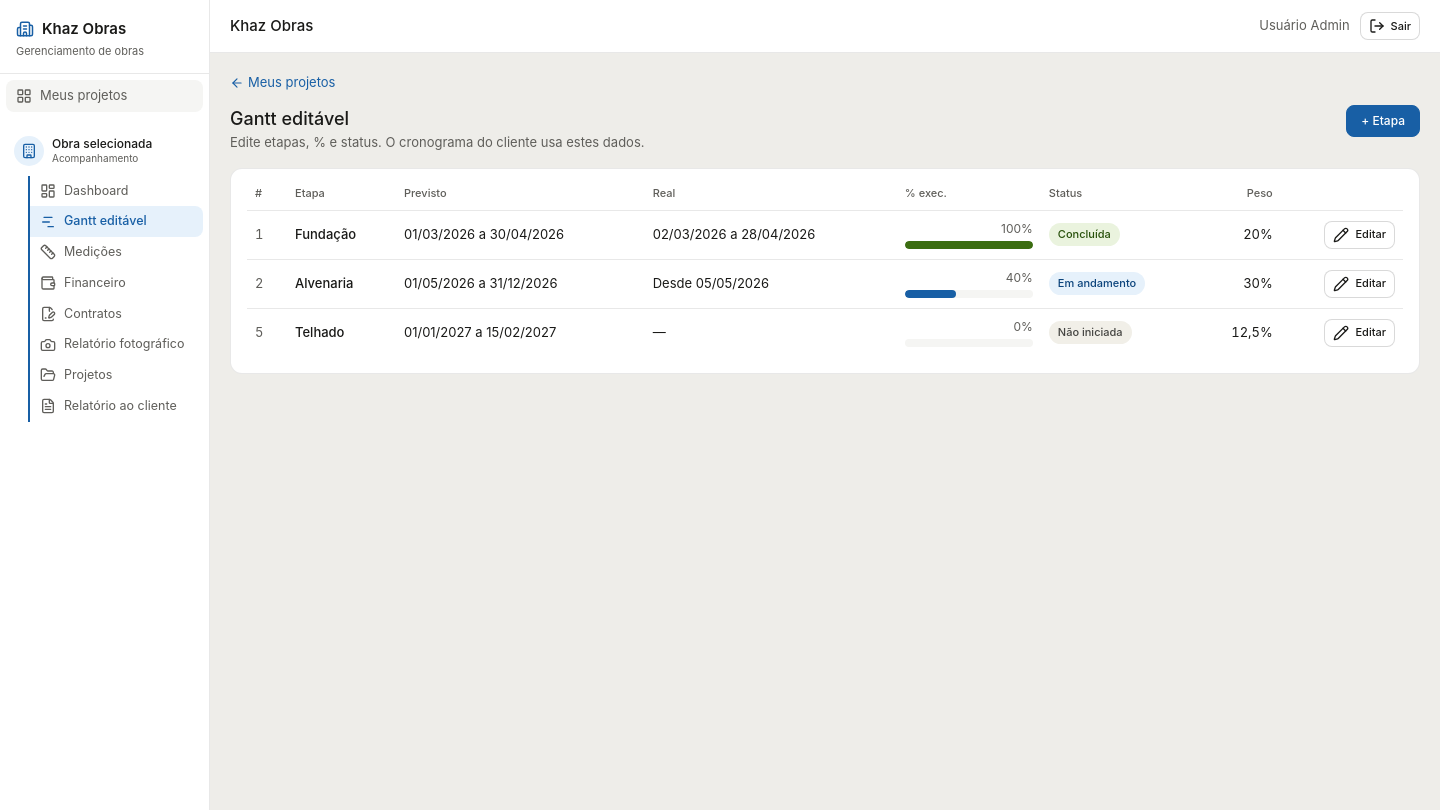
Gantt editável: diálogo de edição › sugestão de status pelo % › 0 → não iniciada, 100 → concluída, outro valor → em andamento
Click the button "Editar" in the row of "Alvenaria" at [1360, 284], box x1=1324 y1=270 x2=1395 y2=298
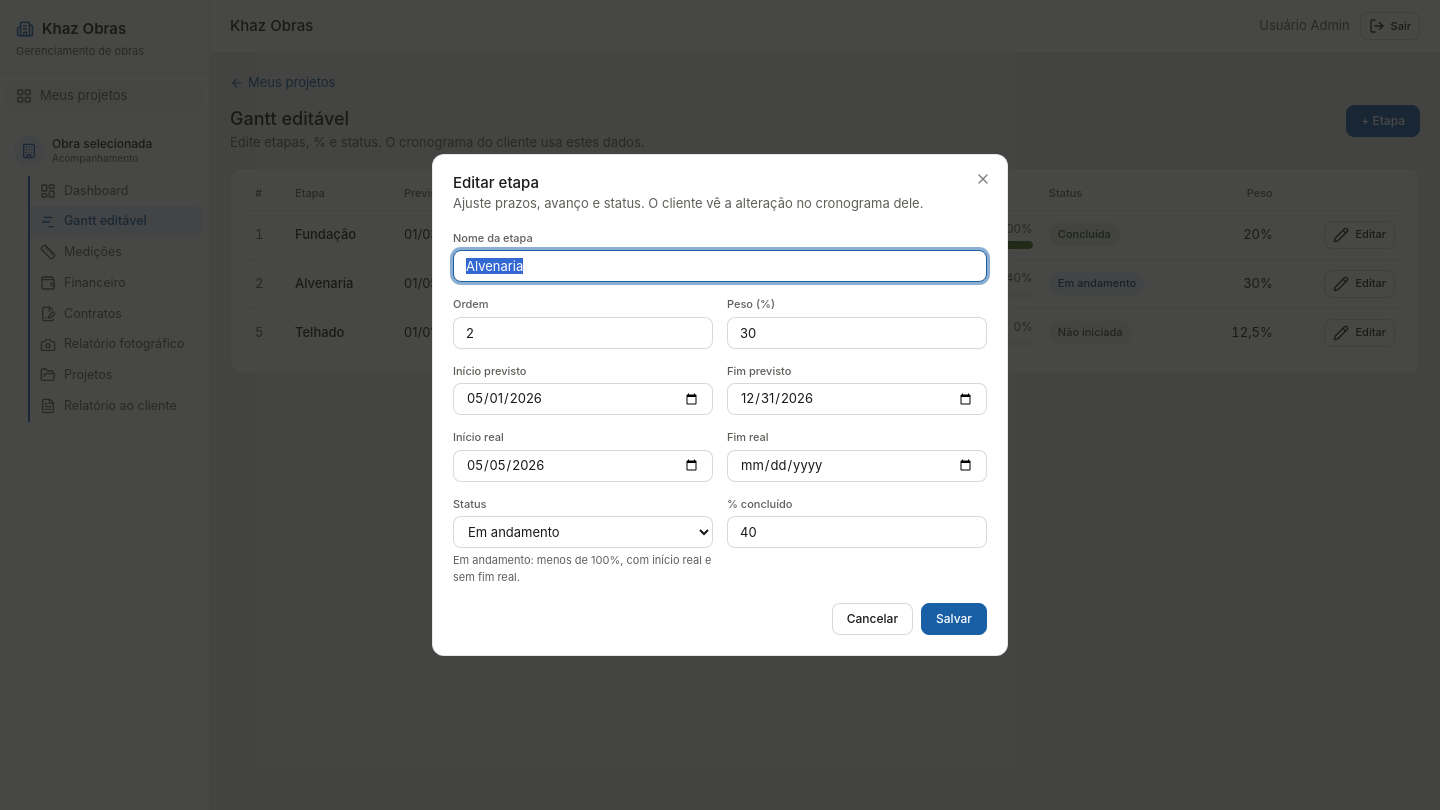
Replace the text in the number field labelled "% concluído" with "100" at [857, 532], box x1=727 y1=516 x2=987 y2=548
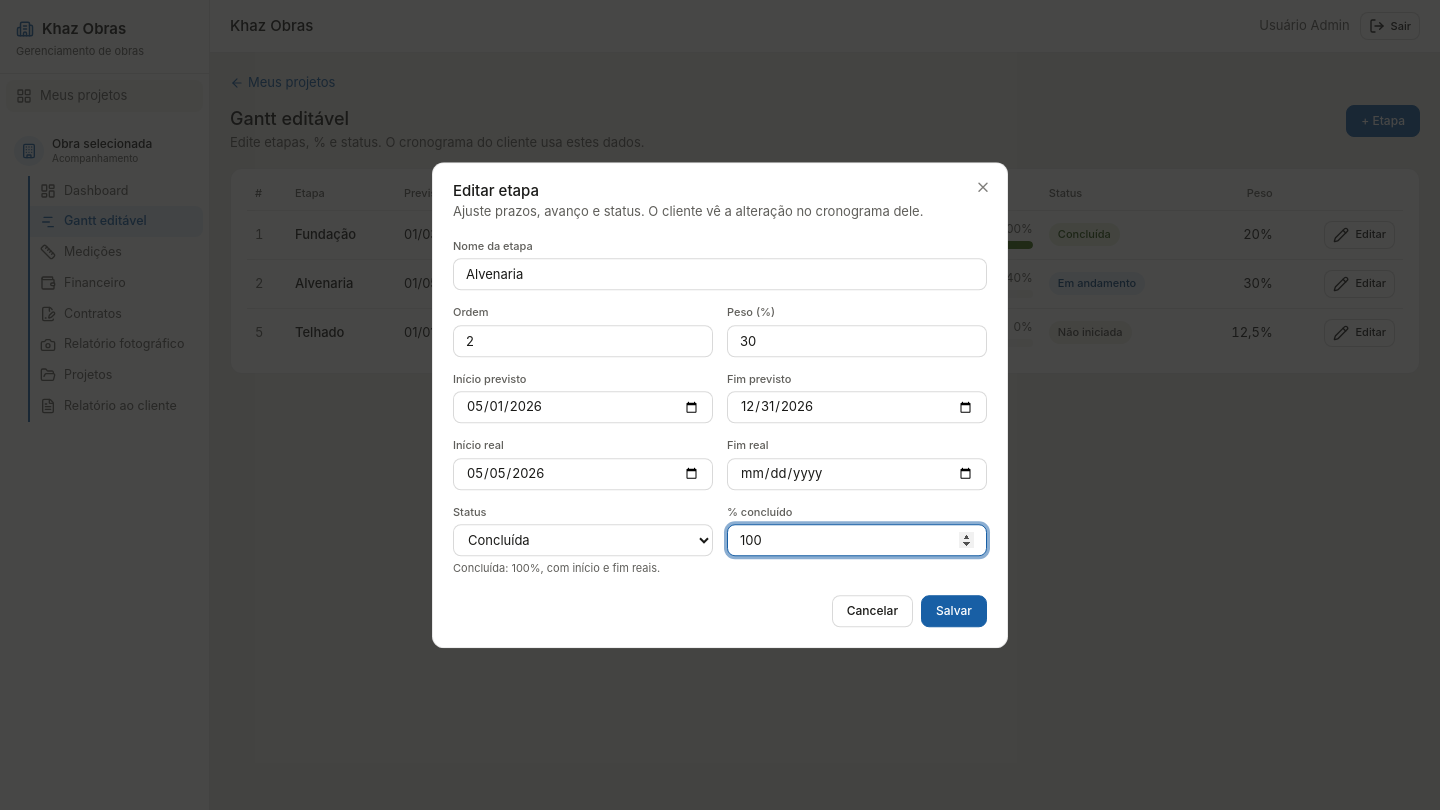
Result: the dropdown labelled "Status" shows "Concluída" at x1=453 y1=524 x2=713 y2=556
Replace the text in the number field labelled "% concluído" with "0" at [857, 540], box x1=727 y1=524 x2=987 y2=556
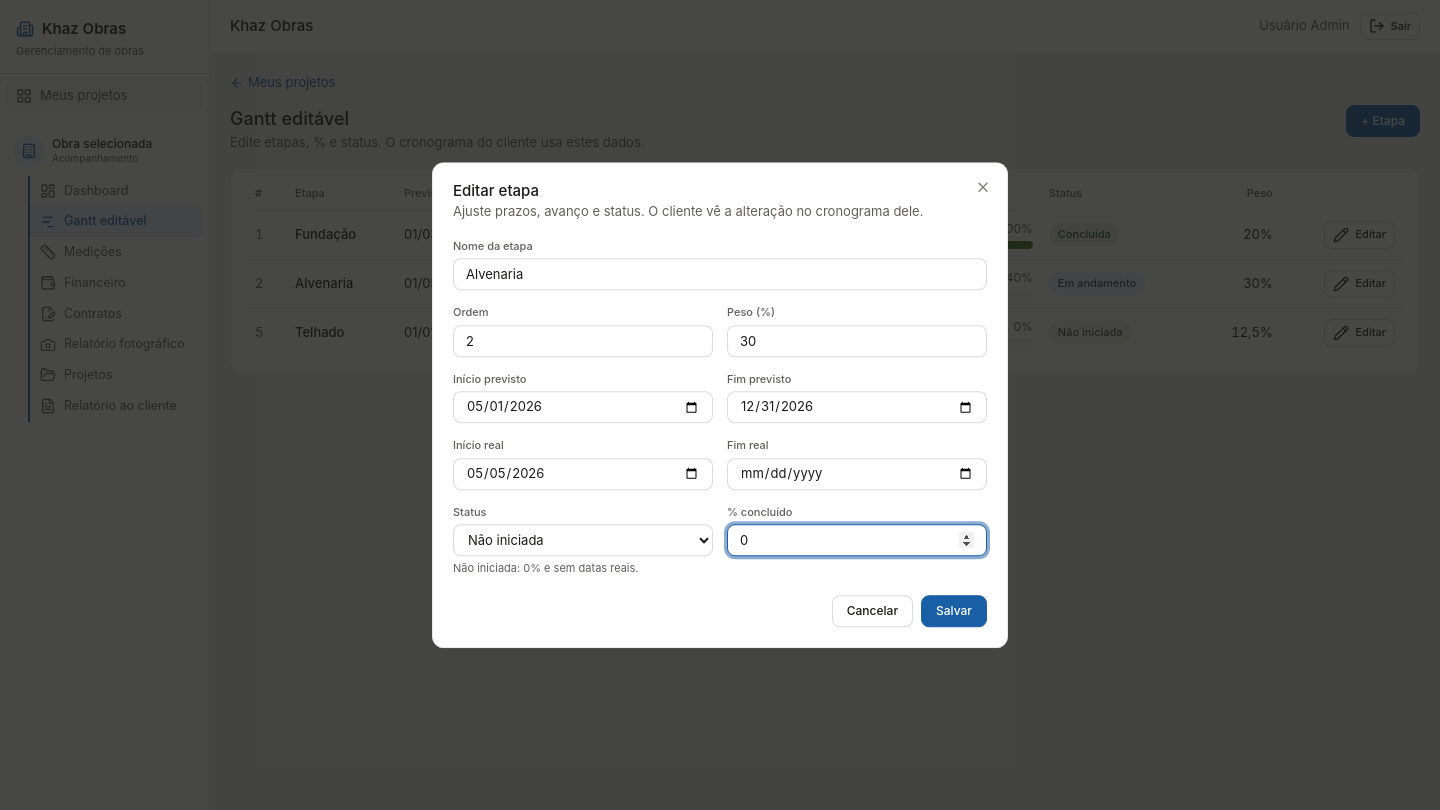
Result: the dropdown labelled "Status" shows "Não iniciada" at x1=453 y1=524 x2=713 y2=556
Replace the text in the number field labelled "% concluído" with "60" at [857, 540], box x1=727 y1=524 x2=987 y2=556
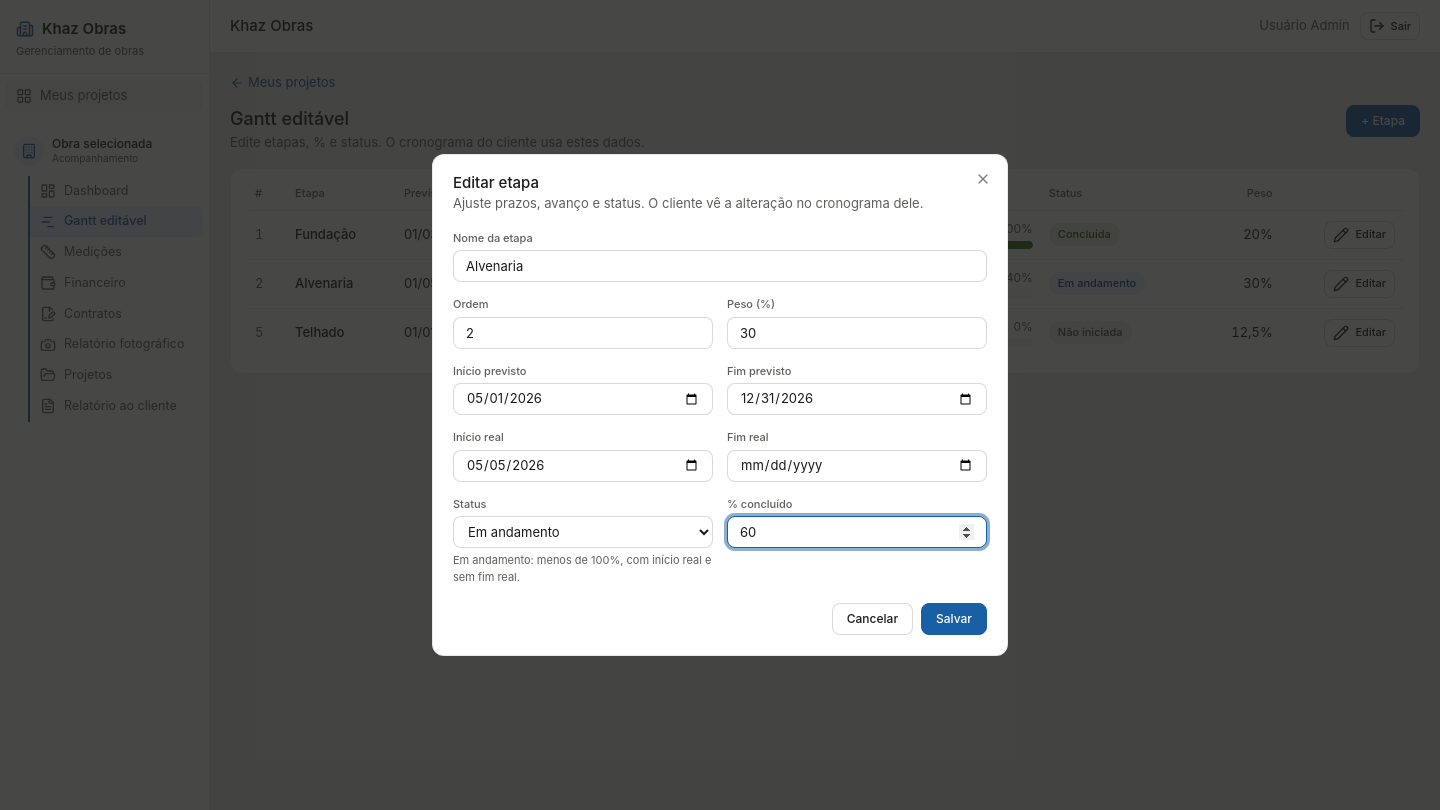
Result: the dropdown labelled "Status" shows "Em andamento" at x1=453 y1=516 x2=713 y2=548
